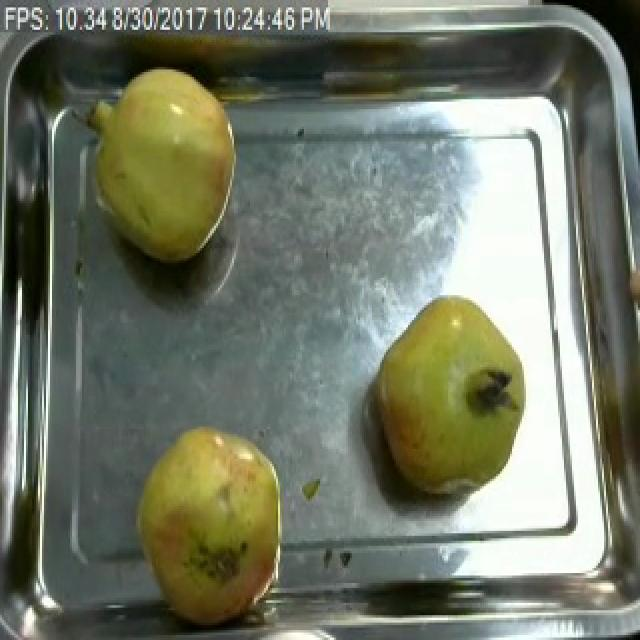fruit: (126, 414, 300, 633), (366, 283, 532, 506), (82, 62, 244, 270)
